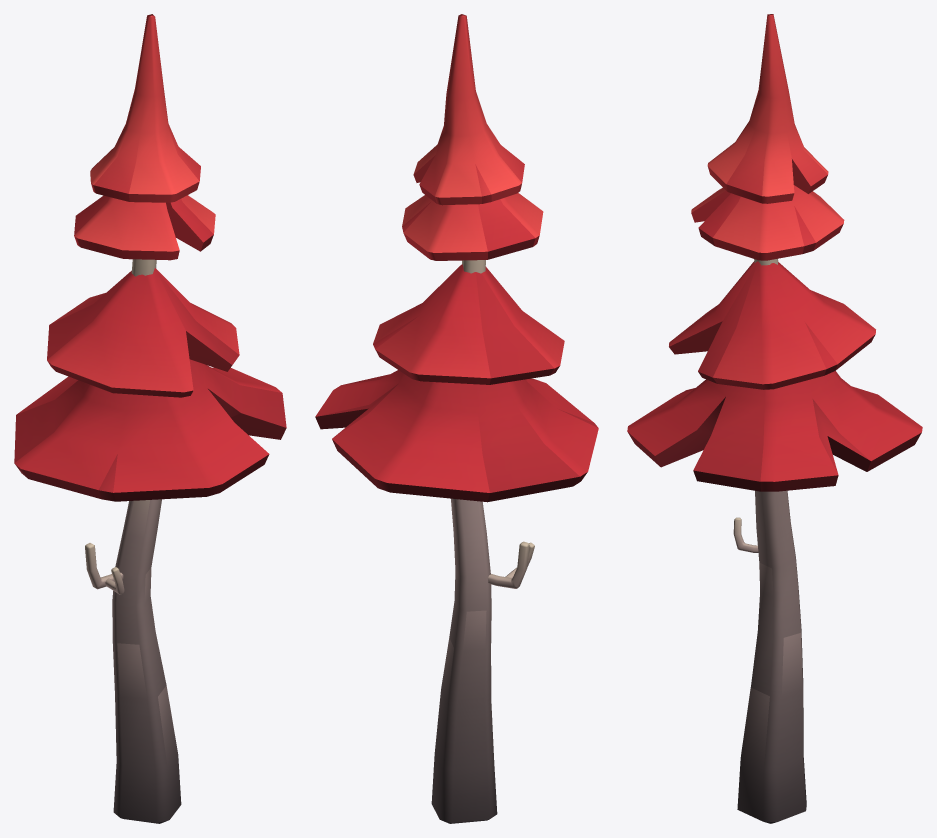
Rendered from pine_tree_col3_2.fbx.
3 views of the same model, side by side, from view 1: azimuth 30°, elevation 25°; view 2: azimuth 150°, elevation 25°; view 3: azimuth 270°, elevation 25° (orthographic).
Visible parts, largest first — view 1: pine_tree_col3_2; view 2: pine_tree_col3_2; view 3: pine_tree_col3_2.
Boxes of the visible parts, bbox=[...] form: pine_tree_col3_2: bbox=[14, 14, 286, 823]; pine_tree_col3_2: bbox=[315, 14, 598, 823]; pine_tree_col3_2: bbox=[627, 14, 922, 823].
Bounding box in the file's own units: 478 × 1429 × 479.
1 material, 1 textured.
